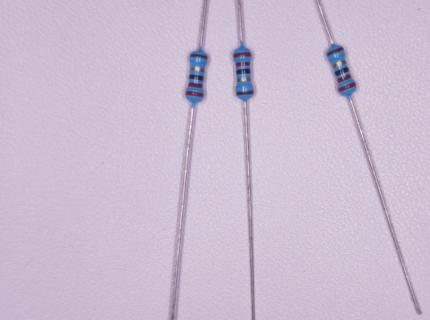Red band: (339, 82, 356, 93), (337, 74, 351, 83), (186, 91, 204, 97), (233, 52, 251, 58), (188, 82, 202, 88), (236, 62, 250, 67)
